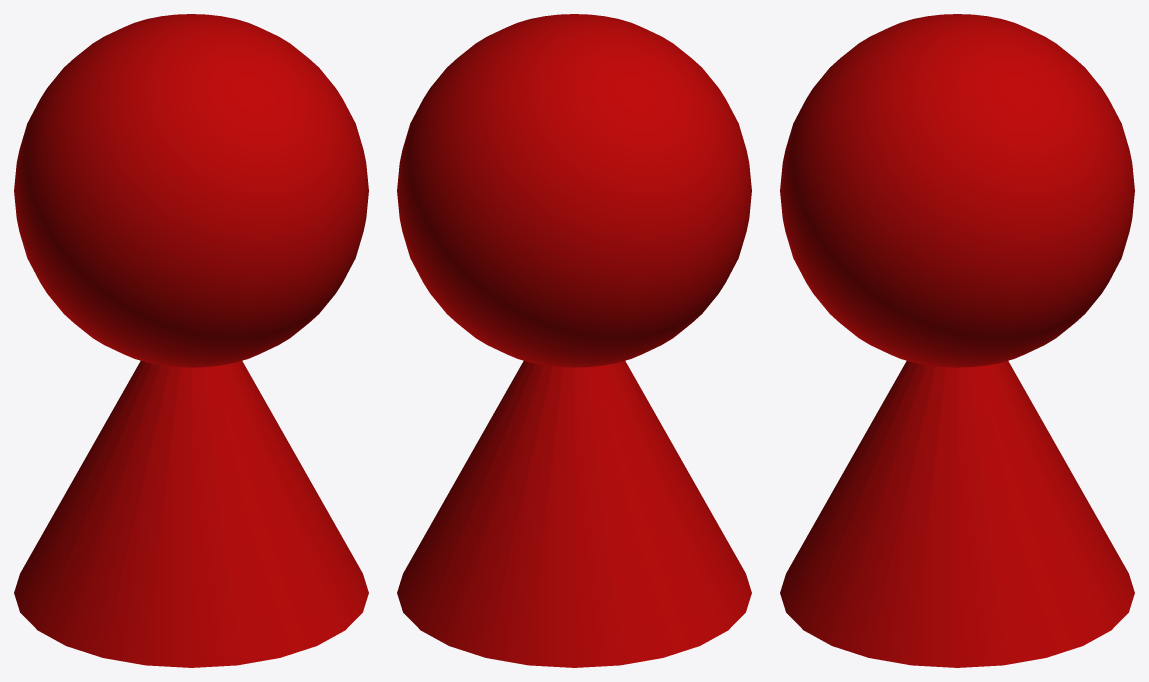
Rendered from peon.glb.
3 renders of one model, left to right at view 1: azimuth 30°, elevation 25°; view 2: azimuth 150°, elevation 25°; view 3: azimuth 270°, elevation 25°, orthographic.
Visible parts, largest first — view 1: sphere1, cono; view 2: sphere1, cono; view 3: sphere1, cono.
Boxes of the visible parts, bbox=[...] form: sphere1: bbox=[14, 14, 368, 367]; cono: bbox=[14, 361, 368, 667]; sphere1: bbox=[397, 14, 751, 367]; cono: bbox=[397, 361, 751, 667]; sphere1: bbox=[780, 14, 1134, 367]; cono: bbox=[780, 361, 1134, 667].
Bounding box in the file's own units: 2 × 3.5 × 2.
